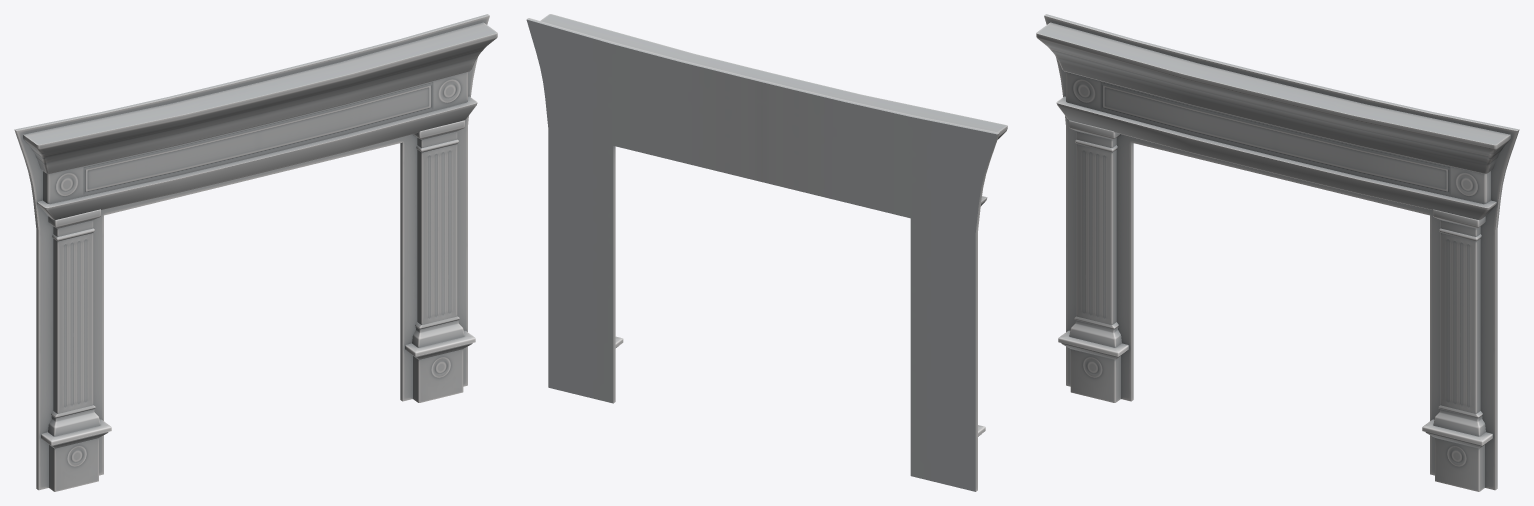
Rendered from PropDoorFrame02TypeB.FBX.
The picture shows the model from 3 angles, left to right: view 1: azimuth 30°, elevation 25°; view 2: azimuth 150°, elevation 25°; view 3: azimuth 330°, elevation 25°; orthographic projection.
Visible parts, largest first — view 1: PropDoorFrame02TypeB; view 2: PropDoorFrame02TypeB; view 3: PropDoorFrame02TypeB.
Boxes of the visible parts, bbox=[...] form: PropDoorFrame02TypeB: bbox=[14, 14, 497, 491]; PropDoorFrame02TypeB: bbox=[526, 14, 1007, 491]; PropDoorFrame02TypeB: bbox=[1036, 14, 1519, 491].
Size of what is drawn, in the model's own units: 4.76 by 3.5 by 0.2996.
